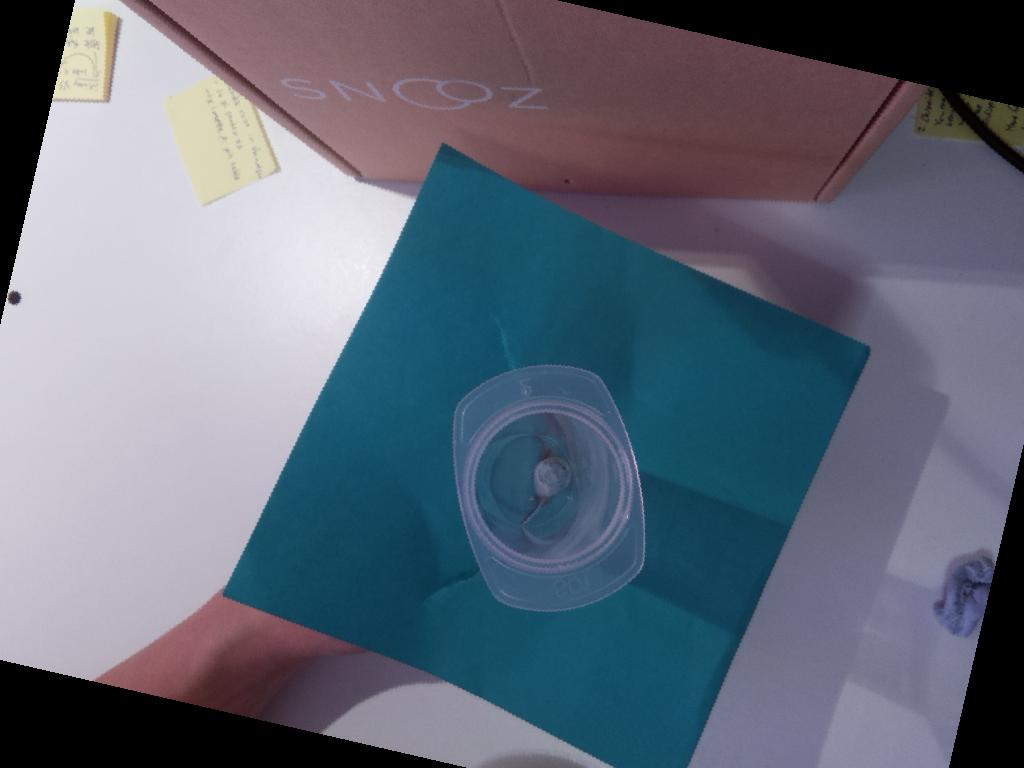clean: (450, 359, 653, 620)
